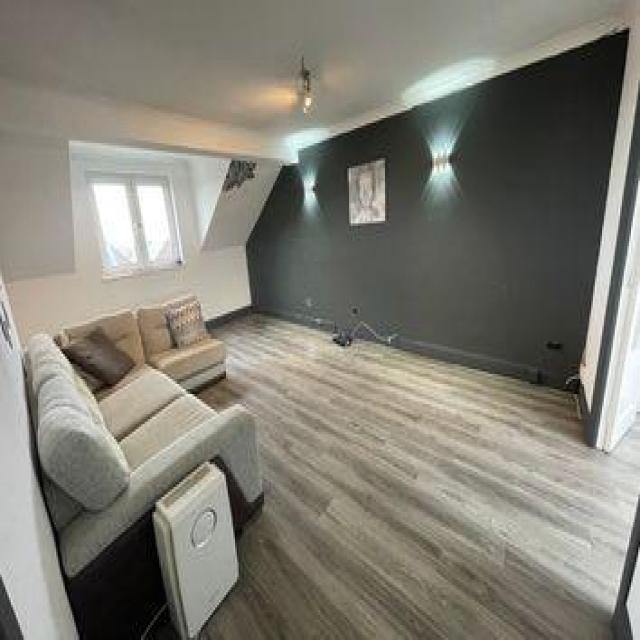Wall: (0, 16, 629, 279), (201, 314, 640, 639), (250, 33, 627, 384), (0, 1, 626, 134), (255, 85, 479, 324), (375, 286, 412, 334)
